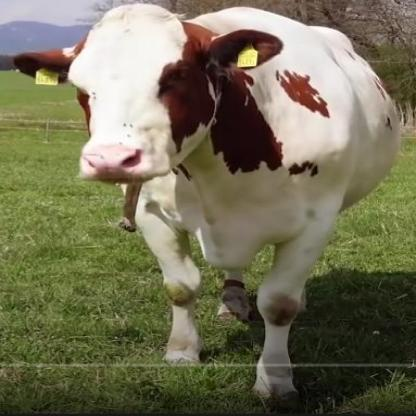cow: (15, 6, 401, 406)
